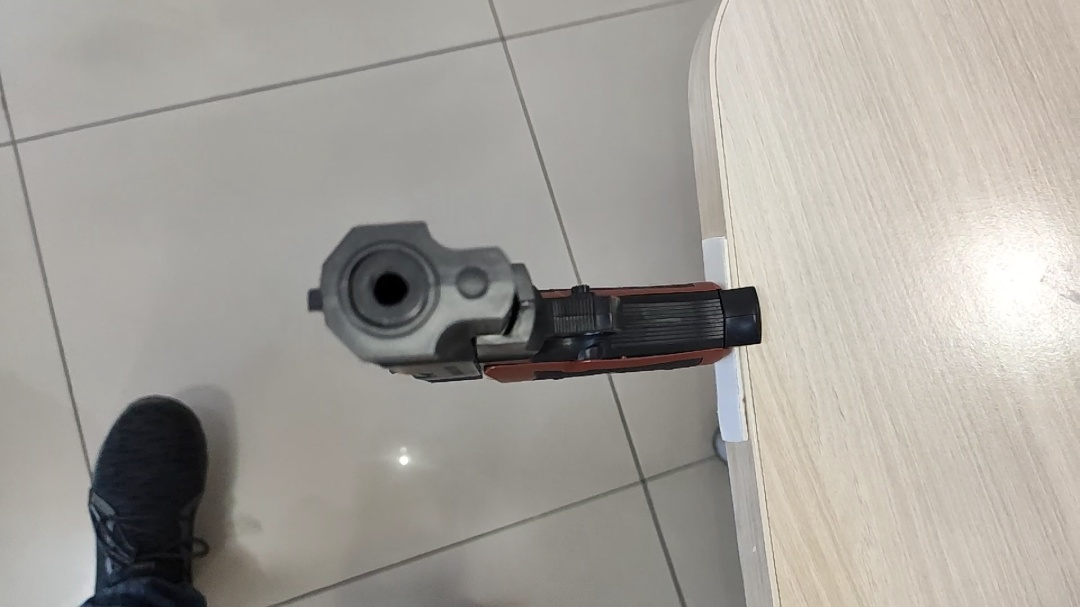gun: (305, 218, 764, 387)
